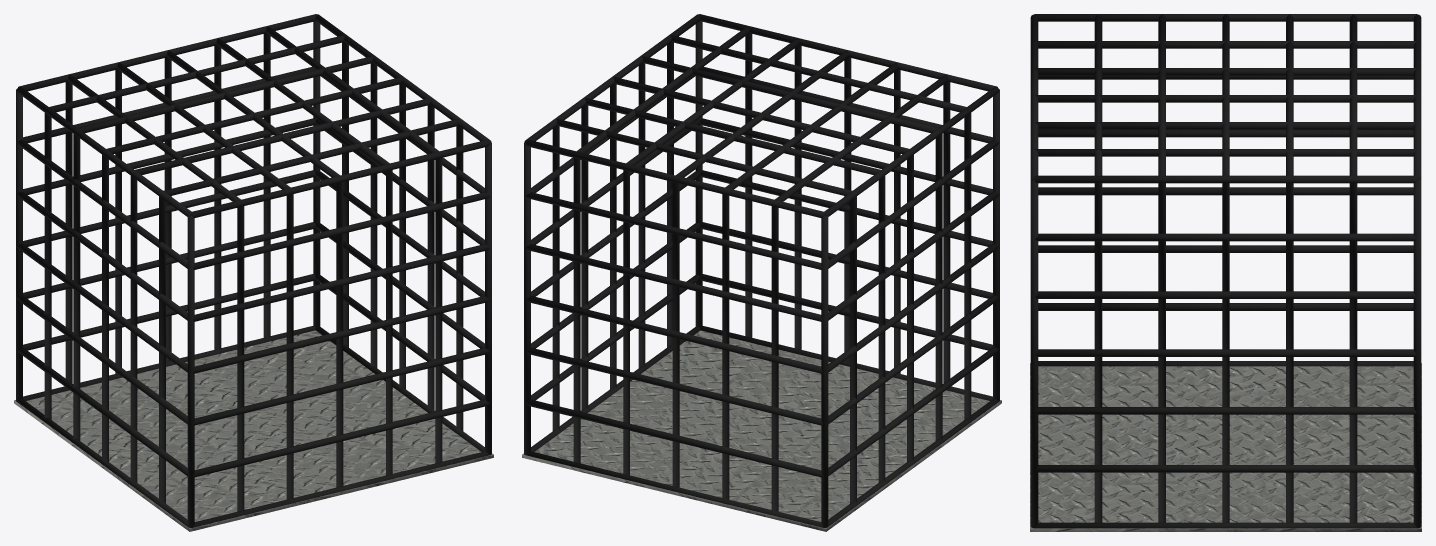
Rendered from cage_1.fbx.
The picture shows the model from 3 angles, left to right: view 1: azimuth 30°, elevation 25°; view 2: azimuth 150°, elevation 25°; view 3: azimuth 270°, elevation 25°; orthographic projection. The views are drawn at different scales.
Parts seen in each view (by area): view 1: cage_walls, cage_floor; view 2: cage_walls, cage_floor; view 3: cage_walls, cage_floor.
Boxes of the visible parts, left/top/right/bottom form: cage_walls: left=16, top=14, right=491, bottom=527; cage_floor: left=14, top=330, right=493, bottom=531; cage_walls: left=524, top=14, right=999, bottom=527; cage_floor: left=522, top=330, right=1001, bottom=531; cage_walls: left=1030, top=14, right=1421, bottom=528; cage_floor: left=1030, top=363, right=1421, bottom=531.
Size of the model in its own units: 3.07 by 3.06 by 3.07.
Materials: 2 (2 with a texture image).
